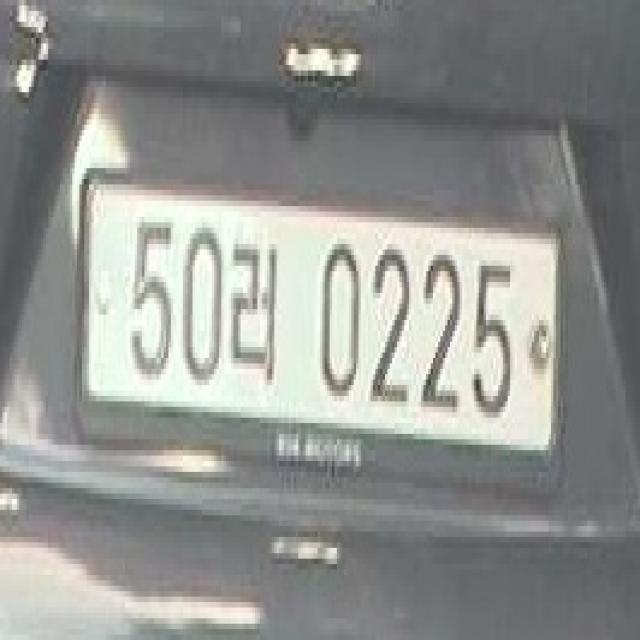0: (316, 234, 362, 408), (184, 225, 224, 392)
2: (367, 242, 409, 420), (418, 250, 460, 428)
5: (468, 243, 520, 428), (128, 218, 172, 386)
leo: (228, 233, 287, 400)
license_plate: (70, 159, 566, 498)
